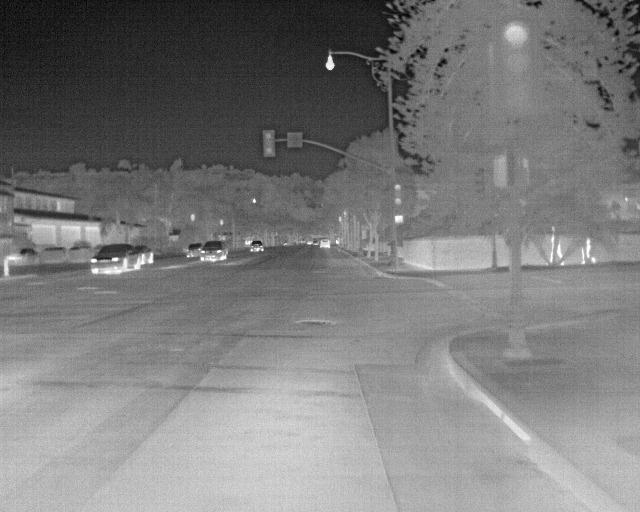car: (90, 242, 139, 275), (198, 241, 230, 263), (35, 246, 67, 264), (8, 248, 38, 265), (133, 243, 154, 265), (65, 243, 88, 263), (185, 242, 203, 260), (248, 238, 266, 254), (318, 237, 334, 250)
